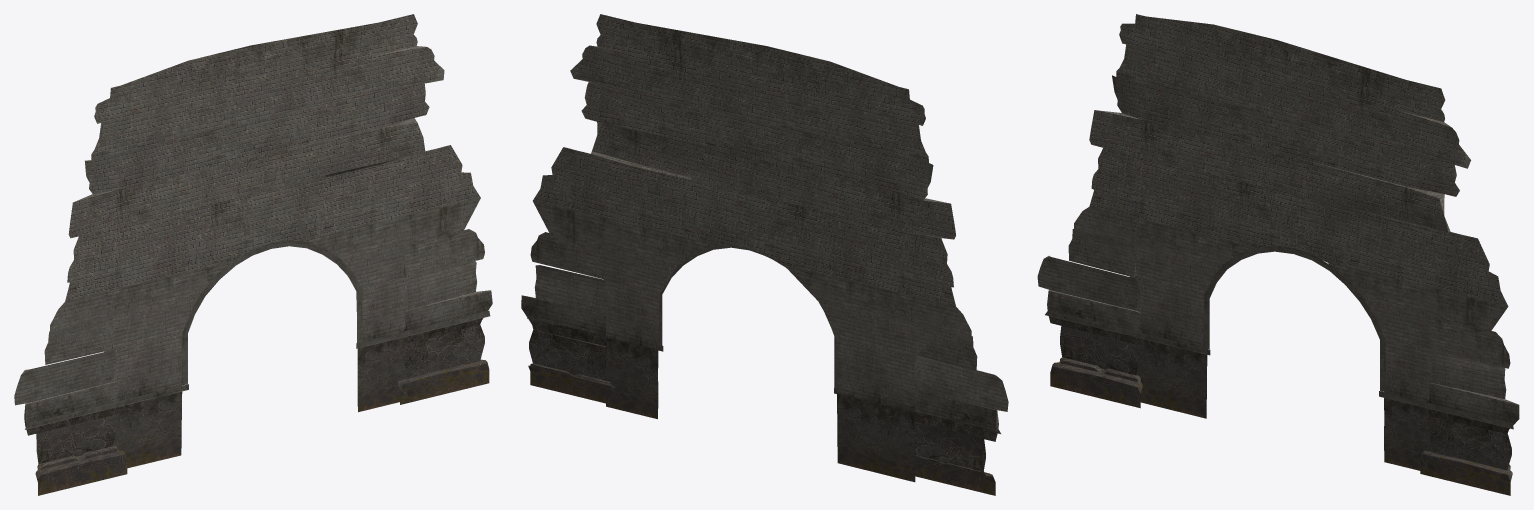
The model's file is b_zx_poqiang03_01_lod1.FBX.
3 views of the same model, side by side, from view 1: azimuth 30°, elevation 25°; view 2: azimuth 150°, elevation 25°; view 3: azimuth 330°, elevation 25° (orthographic).
Parts seen in each view (by area): view 1: b_zx_poqiang03_01_lod1; view 2: b_zx_poqiang03_01_lod1; view 3: b_zx_poqiang03_01_lod1.
Boxes of the visible parts, bbox=[...] form: b_zx_poqiang03_01_lod1: bbox=[14, 14, 492, 495]; b_zx_poqiang03_01_lod1: bbox=[521, 14, 1008, 495]; b_zx_poqiang03_01_lod1: bbox=[1037, 14, 1519, 495].
Size of the model in its own units: 25.41 by 19.93 by 0.8042.
